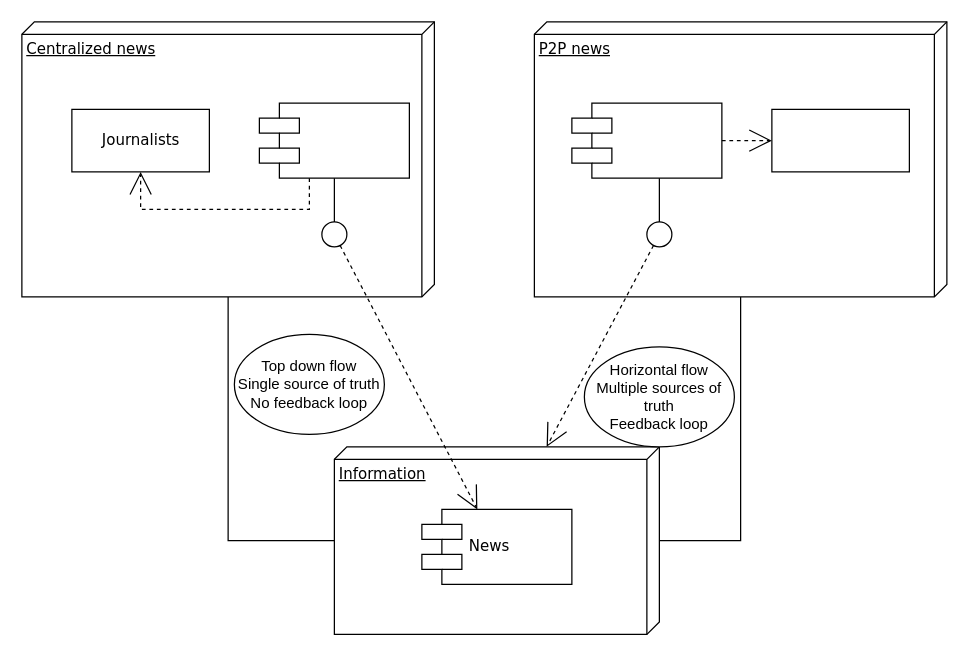
Image size: 969x656. Some labels were removed from this diagram. Each missing label, with the centre of its shape:
"Fact checkers" goes at point 333,140.
"Reporters" goes at point 646,140.
"Witnesses" goes at point 840,140.
